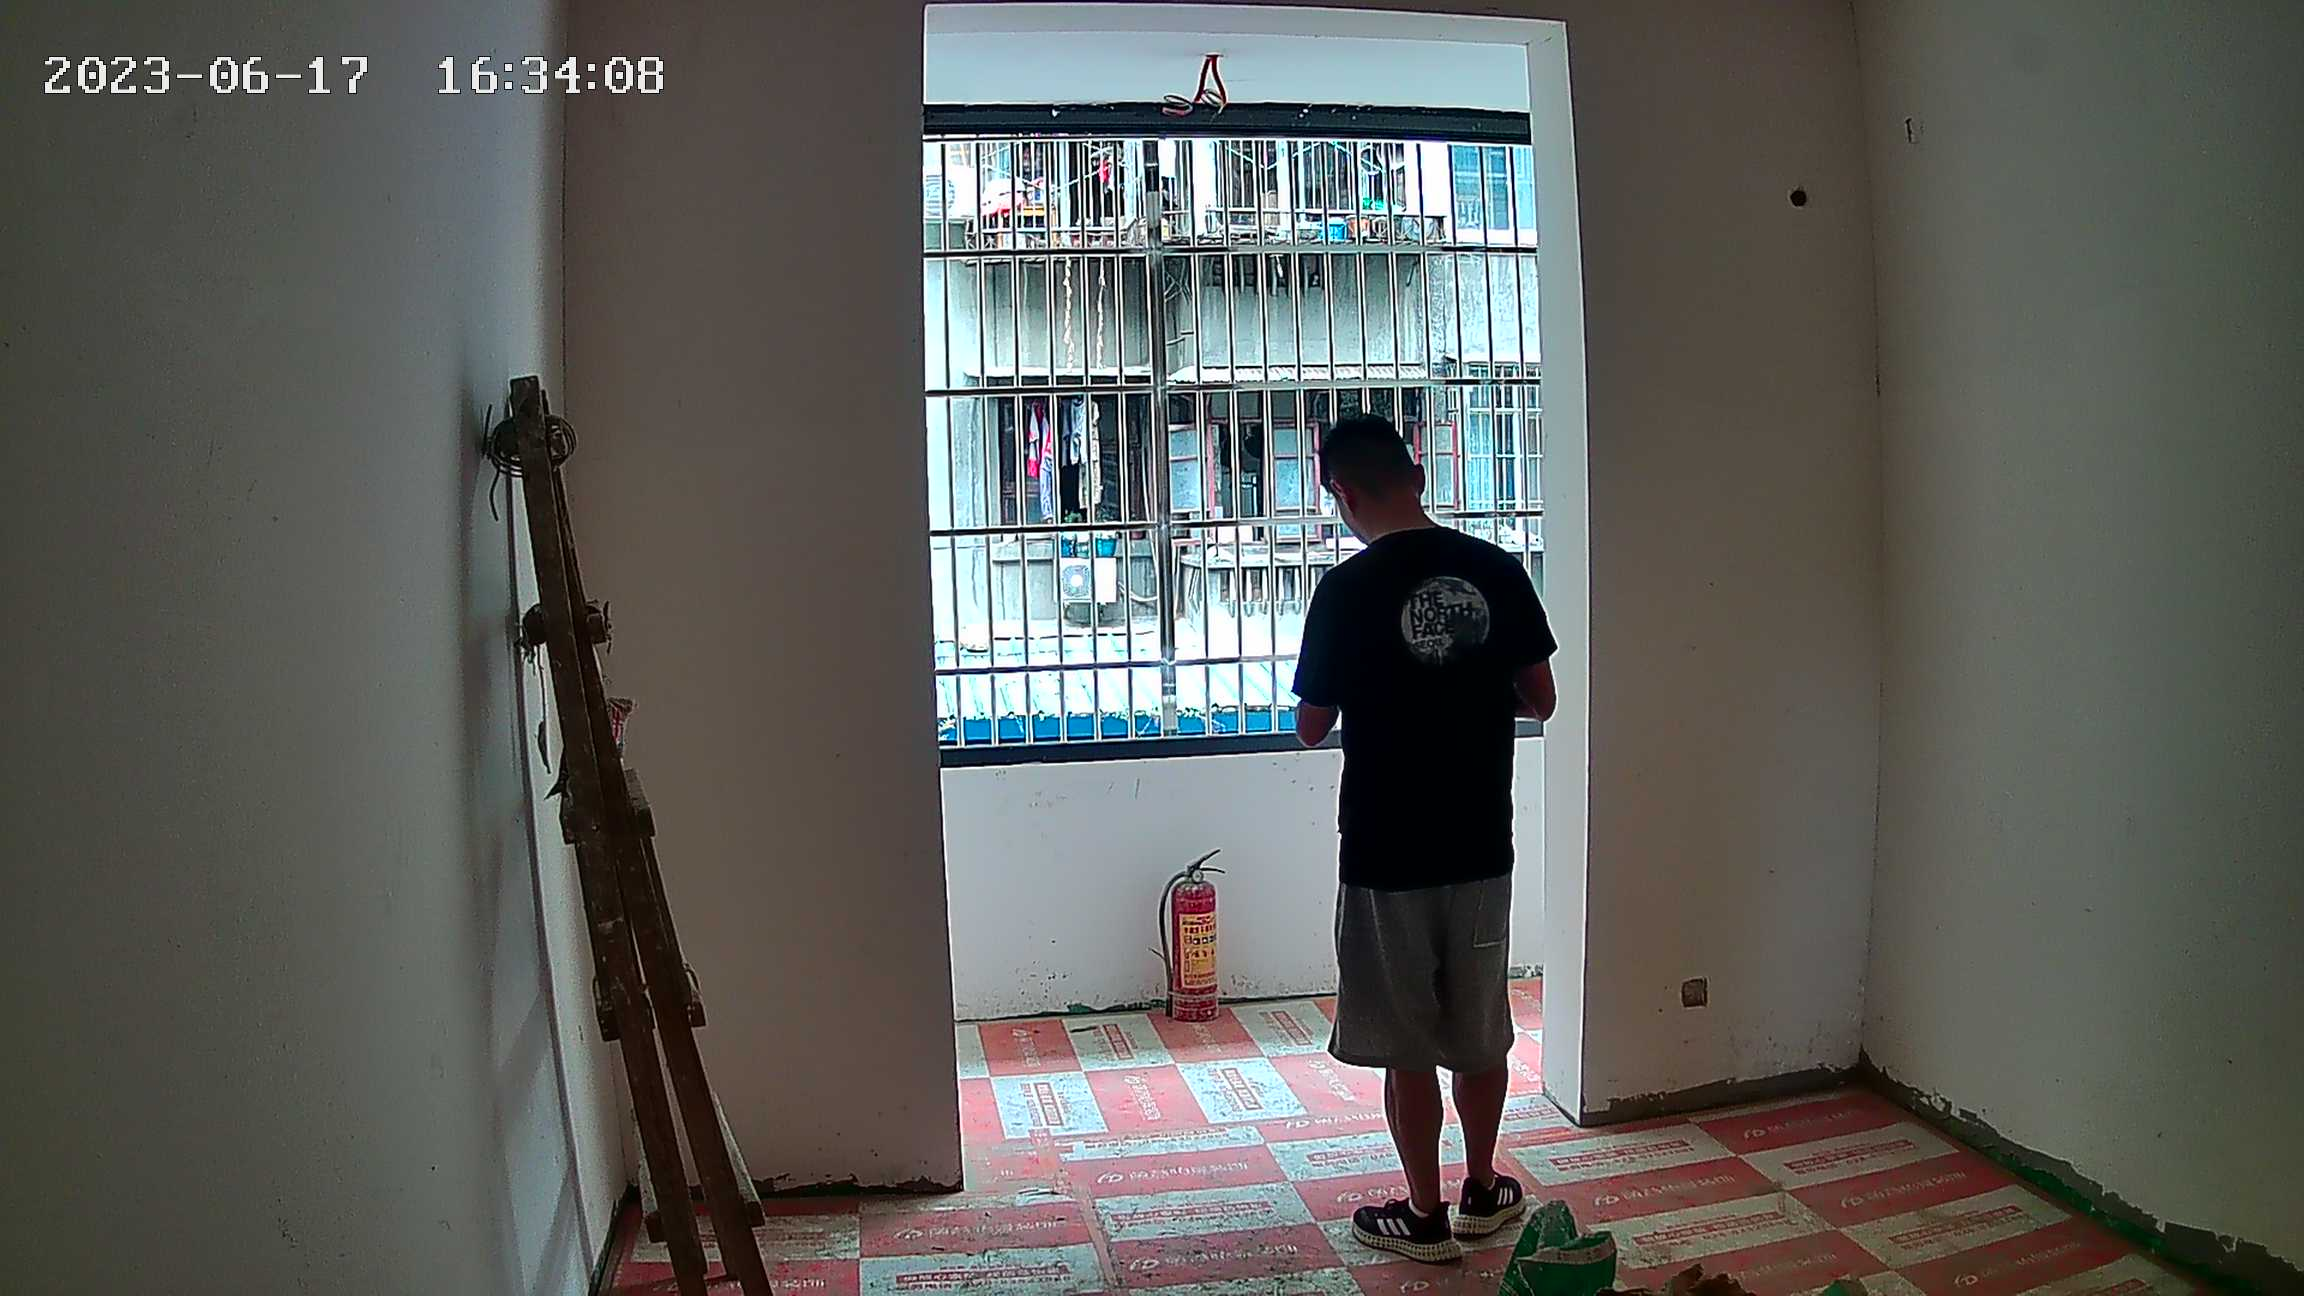people: (1287, 417, 1566, 1267)
window: (922, 131, 1562, 750)
